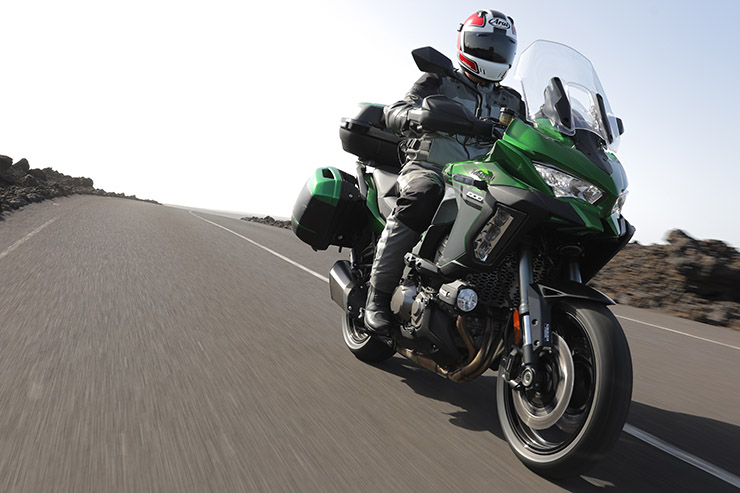helmet: (447, 2, 522, 87)
